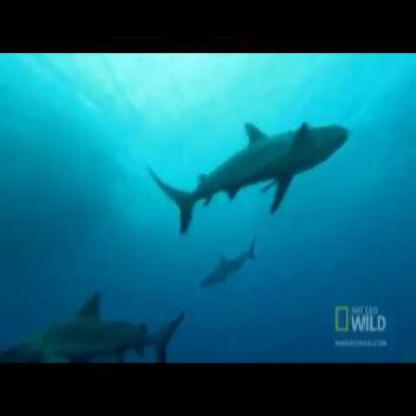Shark -Selachimorpha-: (145, 106, 354, 236)
